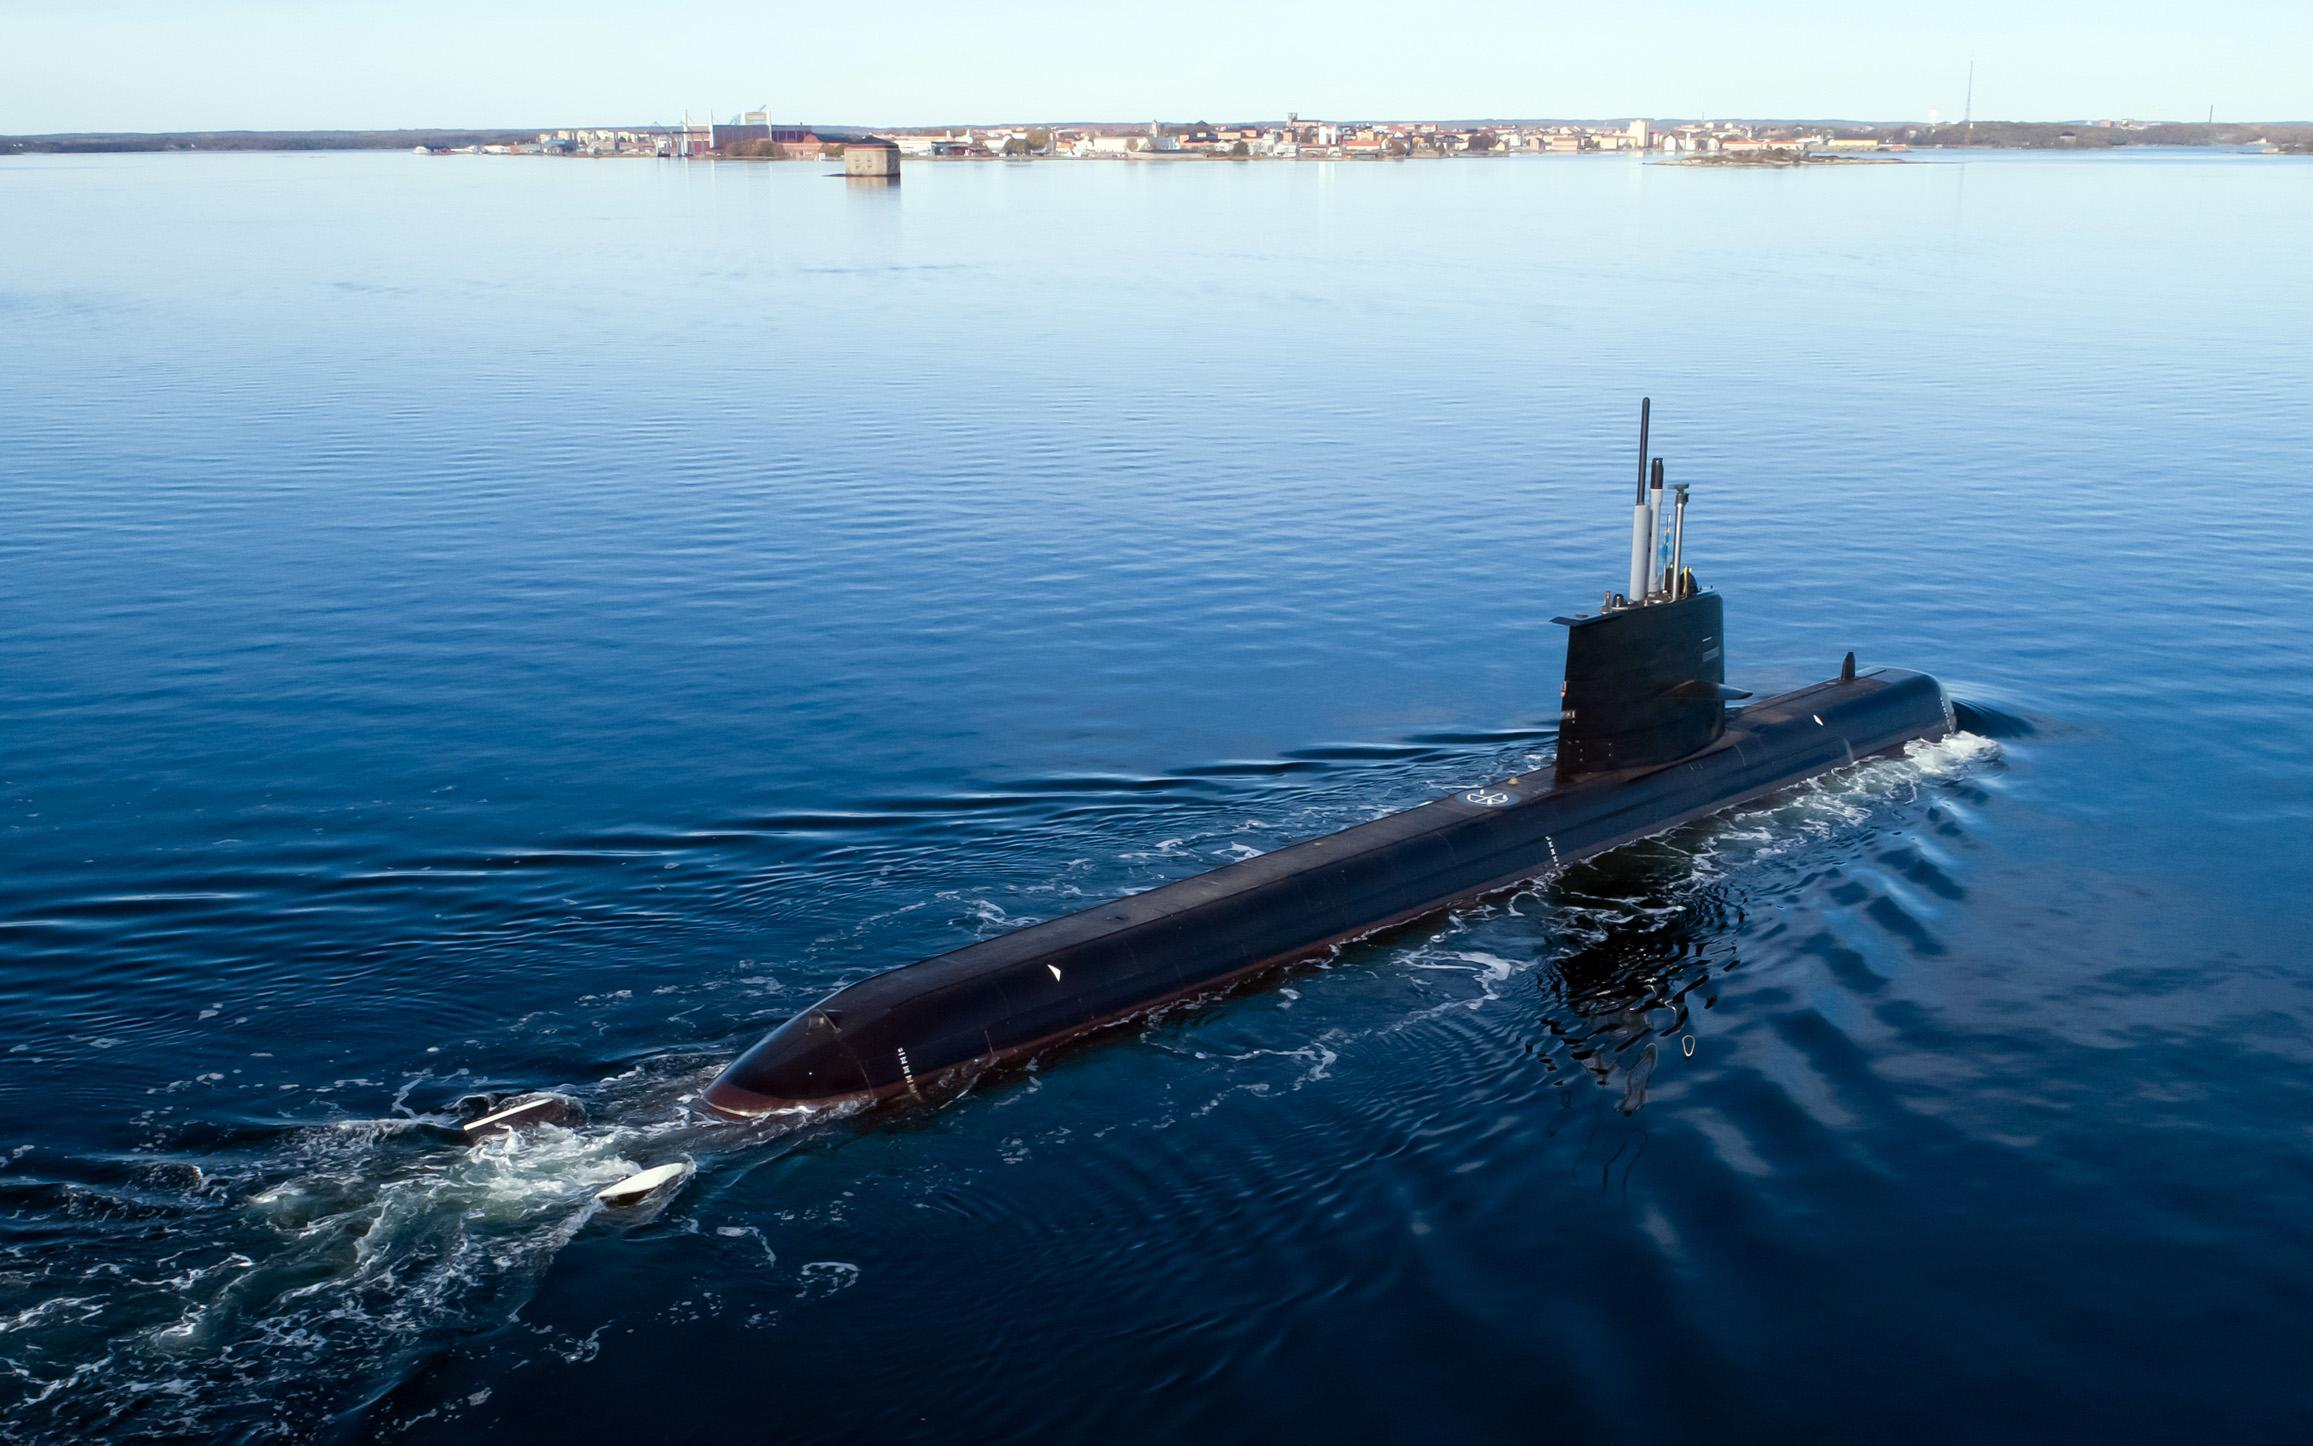Submarine: (450, 357, 2156, 1286)
